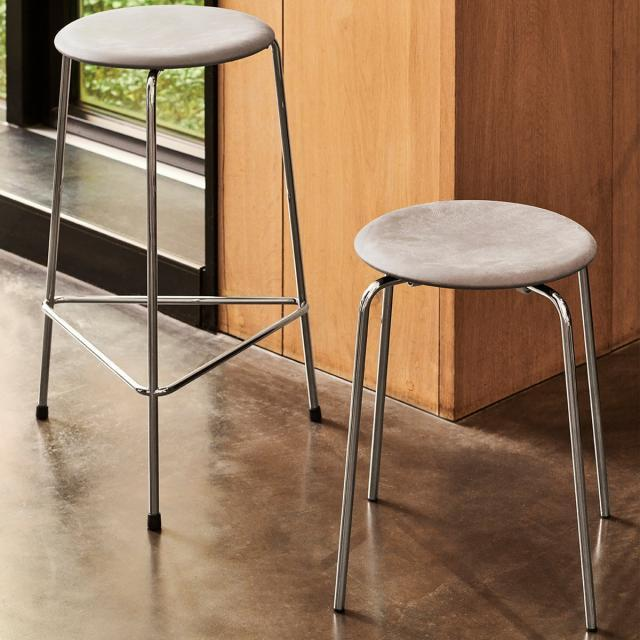chair: (32, 1, 322, 536), (326, 195, 610, 634)
